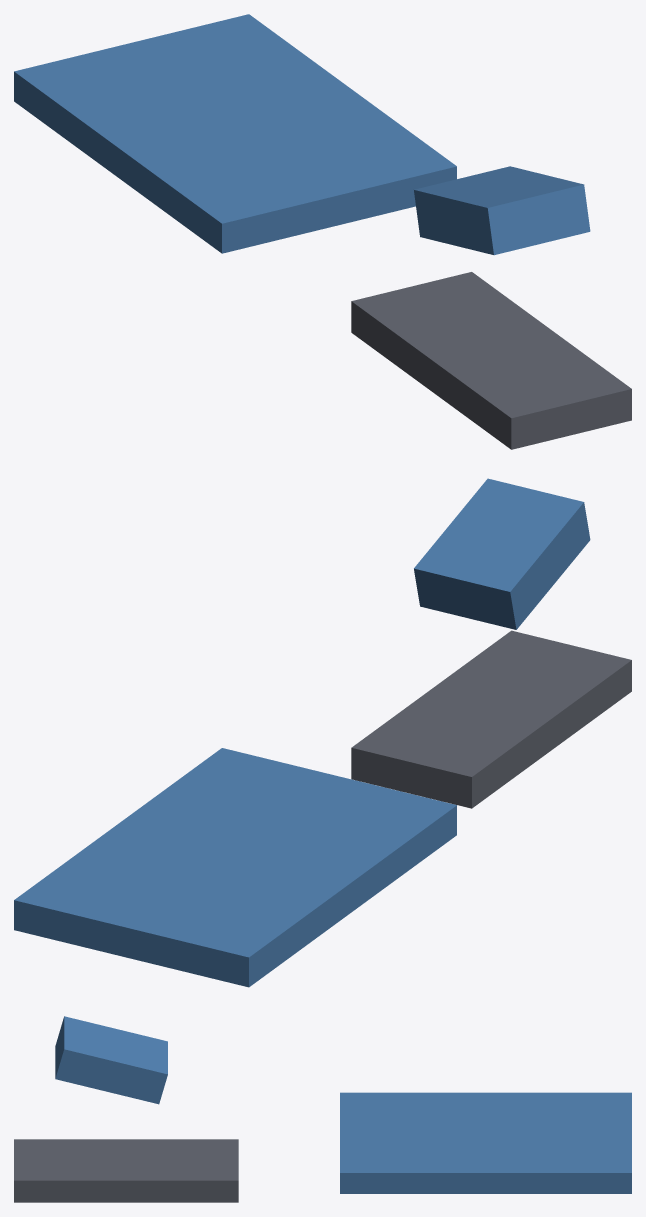
Rendered from AL_OracleArtillery_LOD0.glb.
3 views of the same model, one above another, from view 1: azimuth 30°, elevation 25°; view 2: azimuth 150°, elevation 25°; view 3: azimuth 270°, elevation 25° (orthographic). The views are drawn at different scales.
Visible parts, largest first — view 1: Cube.001, Cube, Cube.002; view 2: Cube.001, Cube, Cube.002; view 3: Cube.001, Cube, Cube.002.
Part boxes in pixels (x1,y1,x2,y2): Cube.001: (14, 14, 456, 253); Cube: (351, 272, 631, 449); Cube.002: (414, 166, 590, 255); Cube.001: (14, 748, 456, 987); Cube: (351, 630, 631, 808); Cube.002: (414, 478, 590, 629); Cube.001: (340, 1092, 631, 1193); Cube: (14, 1139, 238, 1202); Cube.002: (55, 1016, 167, 1104).
Bounding box in the file's own units: 3.9 × 3.37 × 12.65.
